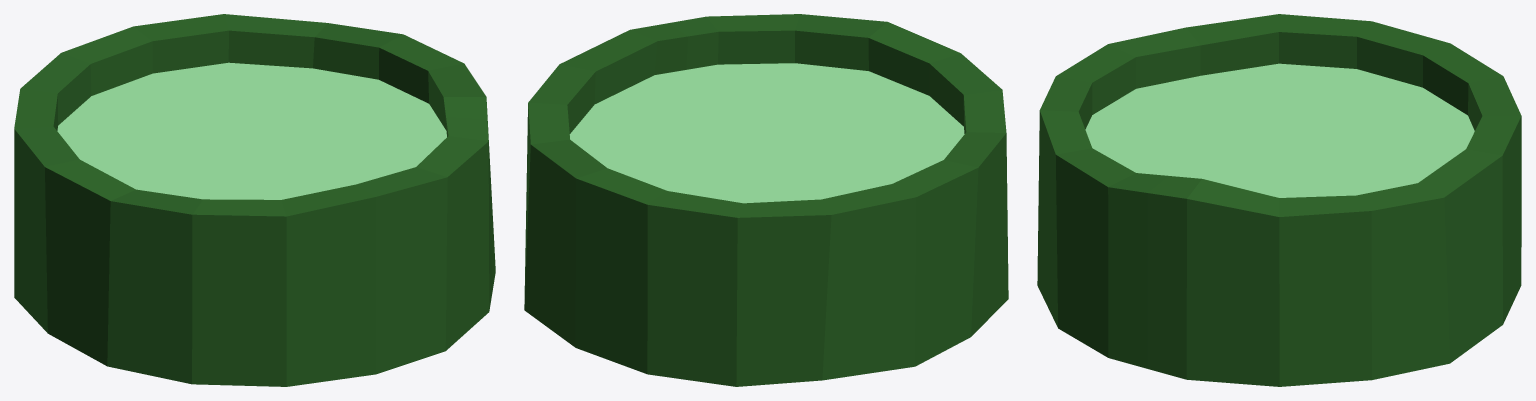
File: kacangpanjangpotong.glb
The picture shows the model from 3 angles, left to right: view 1: azimuth 30°, elevation 25°; view 2: azimuth 150°, elevation 25°; view 3: azimuth 270°, elevation 25°; orthographic projection.
Visible parts, largest first — view 1: Cylinder; view 2: Cylinder; view 3: Cylinder.
Part boxes in pixels (x1,y1,x2,y2): Cylinder: (14, 14, 495, 386); Cylinder: (524, 14, 1008, 386); Cylinder: (1037, 14, 1521, 386).
Bounding box in the file's own units: 0.8581 × 0.3619 × 0.8546.
